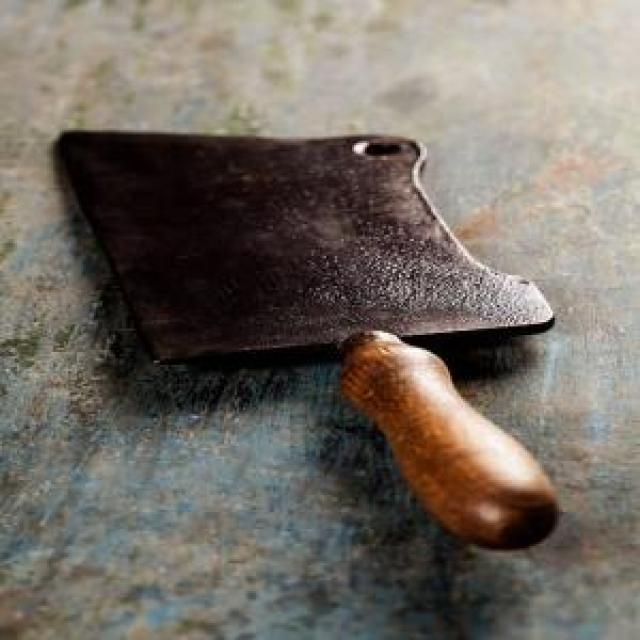knife: (43, 126, 593, 558)
